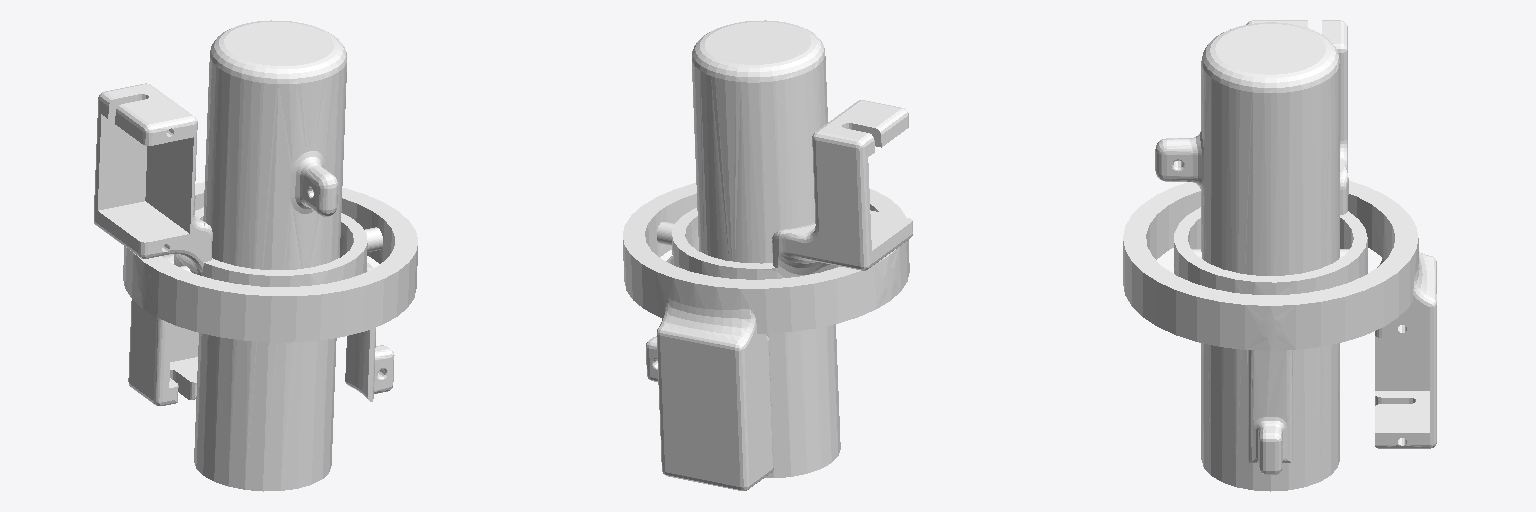
The robot description file, URDF, robot "allBracketsAndJoints.SLDASM":
<?xml version="1.0" encoding="utf-8"?>
<!-- This URDF was automatically created by SolidWorks to URDF Exporter! Originally created by [author] ([email redacted]) 
     Commit Version: 1.6.0-4-g7f85cfe  Build Version: 1.6.7995.38578
     For more information, please see http://wiki.ros.org/sw_urdf_exporter -->
<robot
  name="allBracketsAndJoints.SLDASM">
  <link
    name="base_link">
    <inertial>
      <origin
        xyz="0.051094 0.045001 0.056924"
        rpy="0 0 0" />
      <mass
        value="0.015587" />
      <inertia
        ixx="1.0453E-05"
        ixy="-2.616E-07"
        ixz="-5.4211E-07"
        iyy="1.2627E-05"
        iyz="-2.2703E-06"
        izz="7.2923E-06" />
    </inertial>
    <visual>
      <origin
        xyz="0 0 0"
        rpy="0 0 0" />
      <geometry>
        <mesh
          filename="package://allBracketsAndJoints.SLDASM/meshes/base_link.STL" />
      </geometry>
      <material
        name="">
        <color
          rgba="1 1 1 1" />
      </material>
    </visual>
    <collision>
      <origin
        xyz="0 0 0"
        rpy="0 0 0" />
      <geometry>
        <mesh
          filename="package://allBracketsAndJoints.SLDASM/meshes/base_link.STL" />
      </geometry>
    </collision>
  </link>
  <link
    name="middleJointLink">
    <inertial>
      <origin
        xyz="-4.7303E-10 -8.9779E-09 -0.031875"
        rpy="0 0 0" />
      <mass
        value="0.00055046" />
      <inertia
        ixx="9.875E-09"
        ixy="1.7096E-13"
        ixz="9.4807E-15"
        iyy="9.8767E-09"
        iyz="-1.0116E-15"
        izz="1.7211E-09" />
    </inertial>
    <visual>
      <origin
        xyz="0 0 0"
        rpy="0 0 0" />
      <geometry>
        <mesh
          filename="package://allBracketsAndJoints.SLDASM/meshes/middleJointLink.STL" />
      </geometry>
      <material
        name="">
        <color
          rgba="1 1 1 1" />
      </material>
    </visual>
    <collision>
      <origin
        xyz="0 0 0"
        rpy="0 0 0" />
      <geometry>
        <mesh
          filename="package://allBracketsAndJoints.SLDASM/meshes/middleJointLink.STL" />
      </geometry>
    </collision>
  </link>
  <joint
    name="outerOuterJoint"
    type="continuous">
    <origin
      xyz="0.021048 -0.067425 0.053636"
      rpy="1.5298 0 -1.5708" />
    <parent
      link="base_link" />
    <child
      link="middleJointLink" />
    <axis
      xyz="0 0 1" />
  </joint>
  <link
    name="middleLink">
    <inertial>
      <origin
        xyz="0.021984 0.0078068 -0.003645"
        rpy="0 0 0" />
      <mass
        value="0.010759" />
      <inertia
        ixx="4.1813E-06"
        ixy="2.814E-06"
        ixz="-6.3054E-07"
        iyy="5.4385E-06"
        iyz="5.0059E-07"
        izz="7.3361E-06" />
    </inertial>
    <visual>
      <origin
        xyz="0 0 0"
        rpy="0 0 0" />
      <geometry>
        <mesh
          filename="package://allBracketsAndJoints.SLDASM/meshes/middleLink.STL" />
      </geometry>
      <material
        name="">
        <color
          rgba="1 1 1 1" />
      </material>
    </visual>
    <collision>
      <origin
        xyz="0 0 0"
        rpy="0 0 0" />
      <geometry>
        <mesh
          filename="package://allBracketsAndJoints.SLDASM/meshes/middleLink.STL" />
      </geometry>
    </collision>
  </link>
  <joint
    name="outerJointMiddle"
    type="continuous">
    <origin
      xyz="0 0 0"
      rpy="0 1.5708 0" />
    <parent
      link="middleJointLink" />
    <child
      link="middleLink" />
    <axis
      xyz="1 0 0" />
  </joint>
  <link
    name="engineJointLink">
    <inertial>
      <origin
        xyz="4.6024E-10 4.51E-08 -7.9114E-11"
        rpy="0 0 0" />
      <mass
        value="0.00036153" />
      <inertia
        ixx="3.0218E-09"
        ixy="-9.324E-18"
        ixz="-6.5421E-14"
        iyy="3.0219E-09"
        iyz="-2.6519E-16"
        izz="1.1307E-09" />
    </inertial>
    <visual>
      <origin
        xyz="0 0 0"
        rpy="0 0 0" />
      <geometry>
        <mesh
          filename="package://allBracketsAndJoints.SLDASM/meshes/engineJointLink.STL" />
      </geometry>
      <material
        name="">
        <color
          rgba="1 1 1 1" />
      </material>
    </visual>
    <collision>
      <origin
        xyz="0 0 0"
        rpy="0 0 0" />
      <geometry>
        <mesh
          filename="package://allBracketsAndJoints.SLDASM/meshes/engineJointLink.STL" />
      </geometry>
    </collision>
  </link>
  <joint
    name="middleInnerJoint"
    type="continuous">
    <origin
      xyz="0.031875 0 0"
      rpy="0 0 0" />
    <parent
      link="middleLink" />
    <child
      link="engineJointLink" />
    <axis
      xyz="0 0 1" />
  </joint>
  <link
    name="engineLink">
    <inertial>
      <origin
        xyz="1.6594E-10 0.0042202 0.00030693"
        rpy="0 0 0" />
      <mass
        value="0.02762" />
      <inertia
        ixx="2.7365E-05"
        ixy="1.3345E-13"
        ixz="-1.6189E-13"
        iyy="5.0142E-06"
        iyz="-1.7192E-07"
        izz="2.7222E-05" />
    </inertial>
    <visual>
      <origin
        xyz="0 0 0"
        rpy="0 0 0" />
      <geometry>
        <mesh
          filename="package://allBracketsAndJoints.SLDASM/meshes/engineLink.STL" />
      </geometry>
      <material
        name="">
        <color
          rgba="1 1 1 1" />
      </material>
    </visual>
    <collision>
      <origin
        xyz="0 0 0"
        rpy="0 0 0" />
      <geometry>
        <mesh
          filename="package://allBracketsAndJoints.SLDASM/meshes/engineLink.STL" />
      </geometry>
    </collision>
  </link>
  <joint
    name="innerJointEngine"
    type="continuous">
    <origin
      xyz="0 0 0"
      rpy="0 0 0" />
    <parent
      link="engineJointLink" />
    <child
      link="engineLink" />
    <axis
      xyz="0 0 1" />
  </joint>
</robot>

--- Facts derived from the render (not from the file) ---
Views: 3 orthographic renders of the robot side by side, from view 1: azimuth 30°, elevation 25°; view 2: azimuth 150°, elevation 25°; view 3: azimuth 270°, elevation 25°.
Model allBracketsAndJoints.SLDASM with 5 links and 4 joints (4 continuous), rooted at base_link, posed every joint at zero.
Links seen in each view (by area): view 1: engineLink, base_link, middleLink, middleJointLink; view 2: engineLink, base_link, middleLink, middleJointLink; view 3: engineLink, base_link, middleLink.
Link boxes in pixels (left/top/right/bottom): engineLink: left=194, top=20, right=346, bottom=491; base_link: left=123, top=182, right=417, bottom=405; middleLink: left=94, top=83, right=394, bottom=401; middleJointLink: left=138, top=227, right=382, bottom=296; engineLink: left=692, top=20, right=840, bottom=477; base_link: left=623, top=183, right=909, bottom=490; middleLink: left=646, top=100, right=912, bottom=381; middleJointLink: left=657, top=222, right=894, bottom=288; engineLink: left=1155, top=22, right=1339, bottom=491; base_link: left=1123, top=181, right=1436, bottom=448; middleLink: left=1174, top=20, right=1367, bottom=474.
Bounding box of the posed robot: 0.0678 × 0.068 × 0.101 m (x, y, z).
5 mesh visuals loaded from 5 distinct referenced files (5 binary STL).